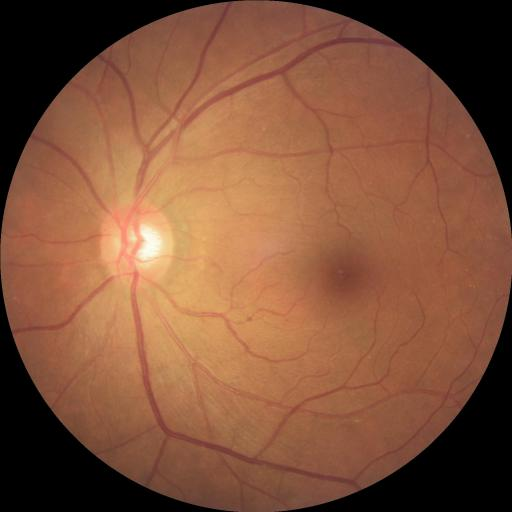Optic Cup: (123, 224, 162, 265)
Optic Disc: (99, 201, 174, 287)
